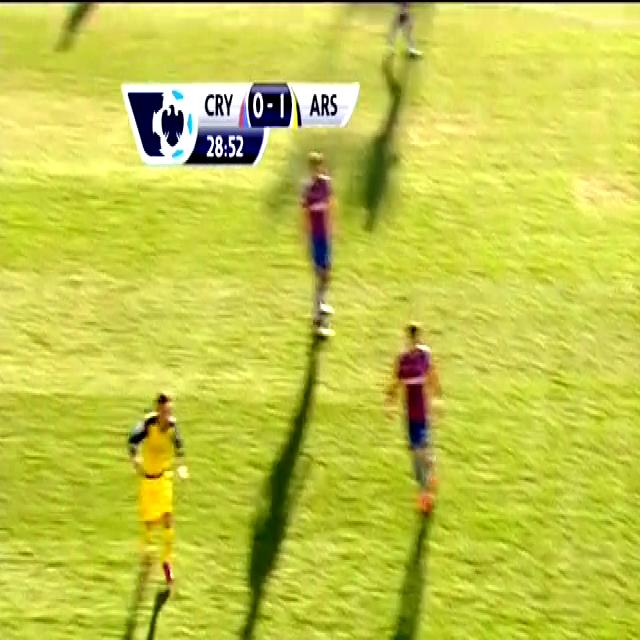soccer-player: (118, 382, 194, 600), (386, 321, 452, 524), (285, 156, 351, 344)
